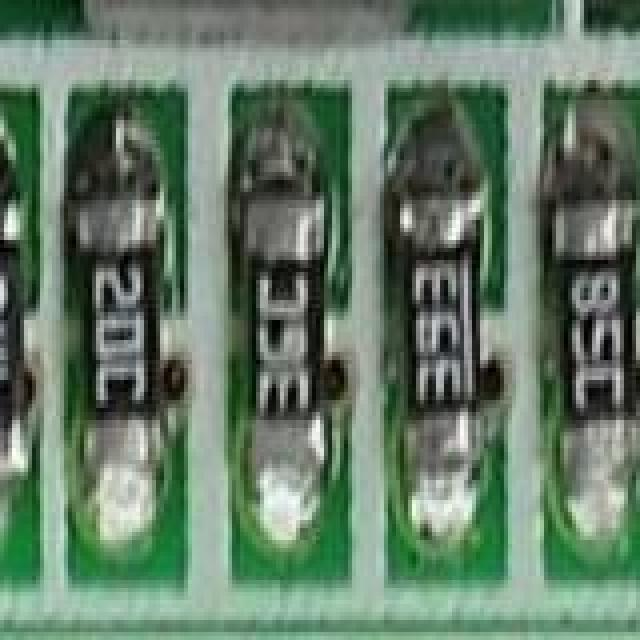inductor: (0, 0, 588, 44)
resistor: (64, 128, 166, 504), (232, 144, 336, 500), (396, 144, 484, 466), (556, 164, 640, 456), (0, 140, 36, 512)
